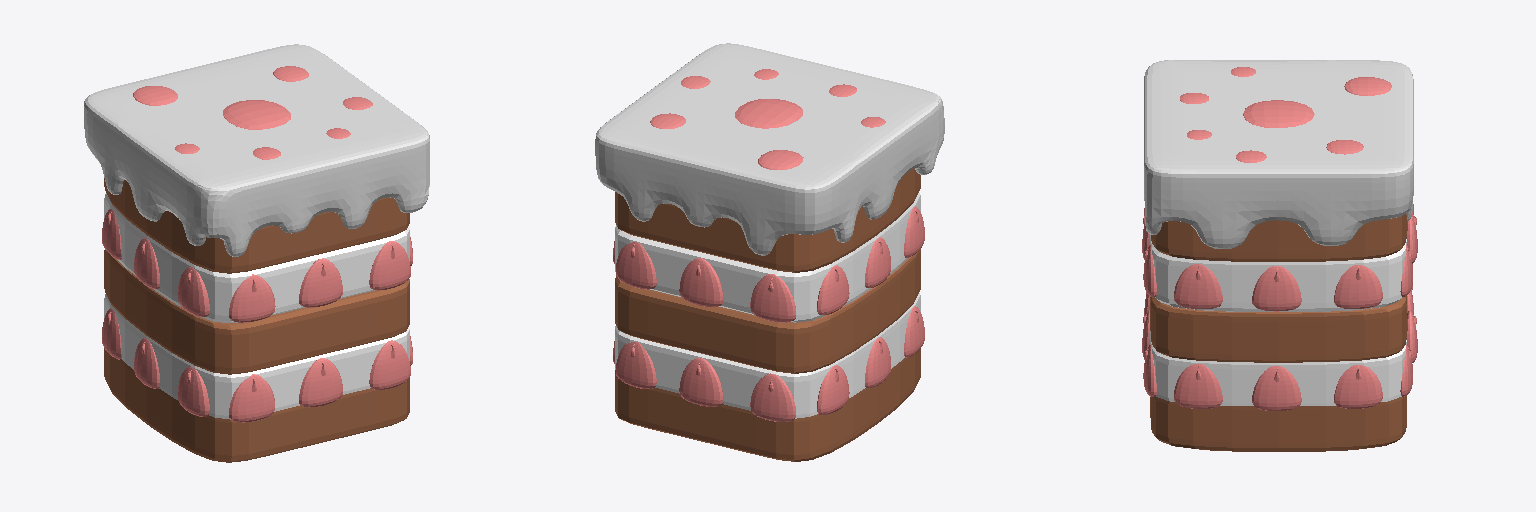
The picture shows the model from 3 angles: view 1: azimuth 30°, elevation 25°; view 2: azimuth 150°, elevation 25°; view 3: azimuth 270°, elevation 25°; orthographic projection.
Visible parts, largest first — view 1: frosting; view 2: frosting; view 3: frosting.
Boxes of the visible parts, x1=… form: frosting: x1=84, y1=44, x2=429, y2=462; frosting: x1=595, y1=43, x2=944, y2=461; frosting: x1=1142, y1=60, x2=1417, y2=451.
Size of the model in its own units: 2.1 by 2.5 by 2.15.
Materials: 1 (1 with a texture image).